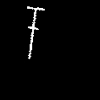double_crochet: (27, 7, 44, 58)
